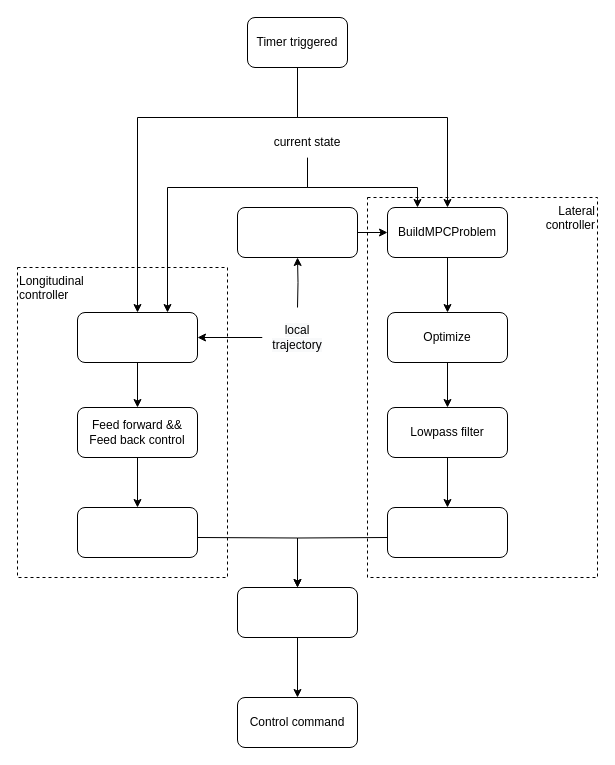
Some shapes in this 615 by 765 pixel diagram are drawn without their labels. The centre of each missing label's shape, as x and y in pixels:
acceleration: point (137, 532)
Convert trajectory: point (297, 232)
Delay compensation: point (137, 337)
LatLonCoupler: point (297, 612)
steering angle && steering angle rate: point (447, 532)
